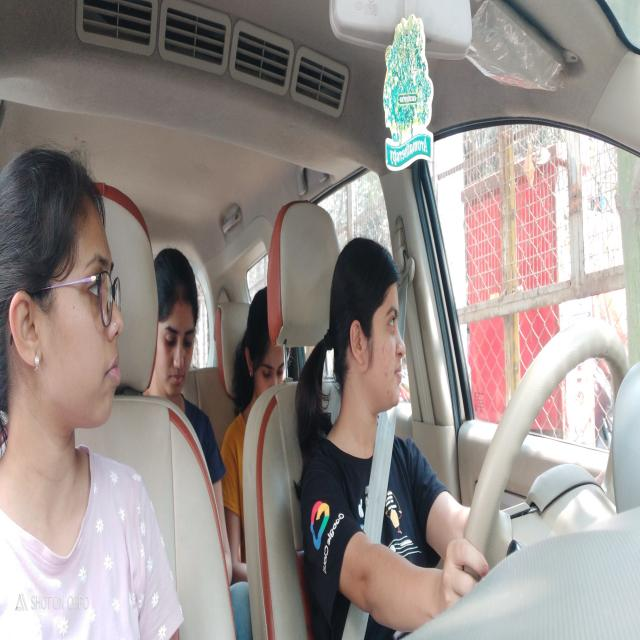LeftRight: (329, 235, 409, 432)
person: (0, 147, 128, 445), (154, 249, 200, 401), (243, 278, 288, 407)
